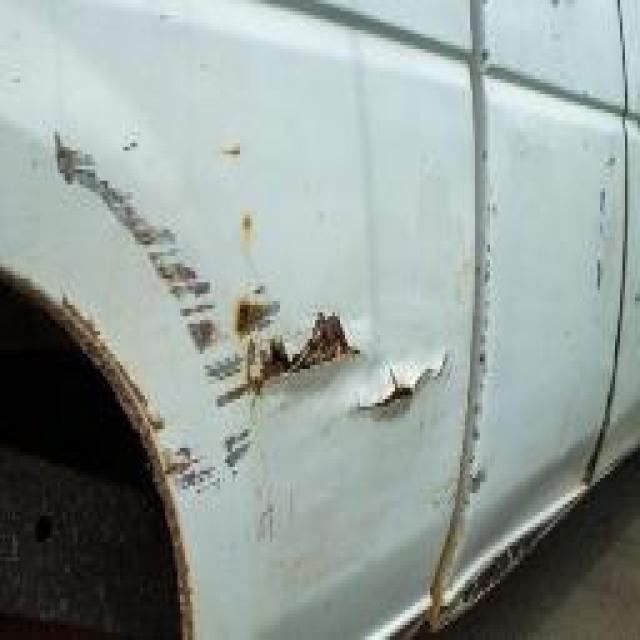Fender: (25, 98, 445, 640)
